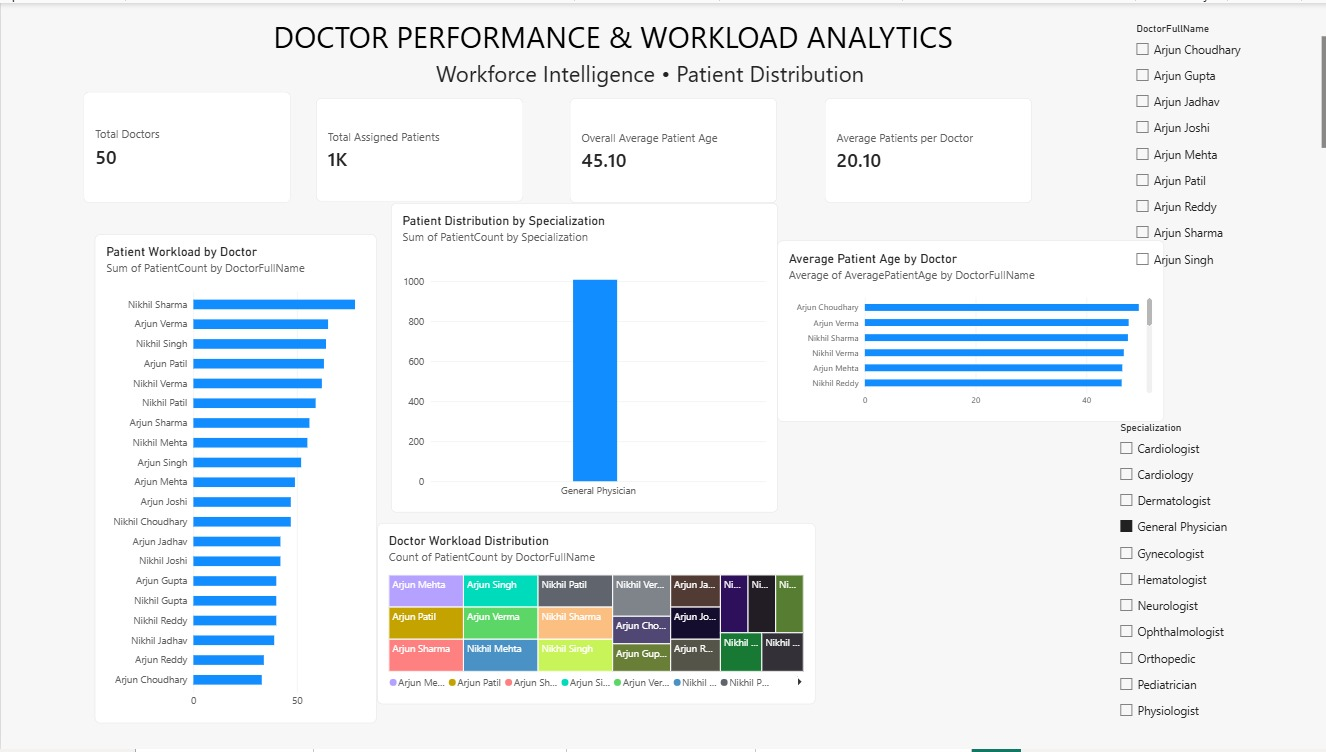

This screenshot's page, from the dashboard's own definition file:
{"tool":"powerbi","page":{"name":"Doctor Performance","canvas":[1920,1080],"ordinal":2},"visuals":[{"type":"textbox","box":[394.7,18.4,1133.3,59.6],"z":0},{"type":"textbox","box":[628.9,78.9,659.6,50.9],"z":1},{"type":"cardVisual","fields":{"Data":["_Measures.Total Doctors"]},"box":[120,128,300,161.4],"z":2},{"type":"cardVisual","fields":{"Data":["_Measures.Total Assigned Patients"]},"box":[456,138,300,150.9],"z":3},{"type":"cardVisual","fields":{"Data":["_Measures.Average Patients per Doctor"]},"box":[1192,138,300,152.6],"z":5},{"type":"cardVisual","fields":{"Data":["_Measures.Overall Average Patient Age"]},"box":[824,138,300,152.6],"z":7},{"type":"clusteredBarChart","title":"Patient Workload by Doctor","fields":{"Category":["Doctor Performance.DoctorFullName"],"Y":["Sum(Doctor Performance.PatientCount)"]},"box":[136,334,408,708],"z":8},{"type":"clusteredColumnChart","title":"Patient Distribution by Specialization","fields":{"Category":["Doctor Performance.Specialization"],"Y":["Sum(Doctor Performance.PatientCount)"]},"box":[564,290,560,448],"z":9},{"type":"barChart","title":"Average Patient Age by Doctor","fields":{"Category":["Doctor Performance.DoctorFullName"],"Y":["Avg(Doctor Performance.AveragePatientAge)"]},"box":[1124,344,560,262],"z":10},{"type":"treemap","title":"Doctor Workload Distribution","fields":{"Group":["Doctor Performance.DoctorFullName"],"Values":["CountNonNull(Doctor Performance.PatientCount)"]},"box":[544,752,634,262],"z":11},{"type":"slicer","fields":{"Values":["Doctor Performance.DoctorFullName"]},"box":[1592,0,284,370],"z":13},{"type":"slicer","fields":{"Values":["Doctor Performance.Specialization"]},"box":[1612,606,264,474],"z":14}]}

Visuals, with their boxes on the page's 1920x1080 design canvas (x1, y1, x2, y2). These are canvas units, not pixel positions in the 1326x752 screenshot, which may show the page scaled, cropped or inside an application window:
textbox: l=395, t=18, r=1528, b=78
textbox: l=629, t=79, r=1288, b=130
cardVisual - _Measures.Total Doctors: l=120, t=128, r=420, b=289
cardVisual - _Measures.Total Assigned Patients: l=456, t=138, r=756, b=289
cardVisual - _Measures.Average Patients per Doctor: l=1192, t=138, r=1492, b=291
cardVisual - _Measures.Overall Average Patient Age: l=824, t=138, r=1124, b=291
"Patient Workload by Doctor" clusteredBarChart: l=136, t=334, r=544, b=1042
"Patient Distribution by Specialization" clusteredColumnChart: l=564, t=290, r=1124, b=738
"Average Patient Age by Doctor" barChart: l=1124, t=344, r=1684, b=606
"Doctor Workload Distribution" treemap: l=544, t=752, r=1178, b=1014
slicer - Doctor Performance.DoctorFullName: l=1592, t=0, r=1876, b=370
slicer - Doctor Performance.Specialization: l=1612, t=606, r=1876, b=1080
